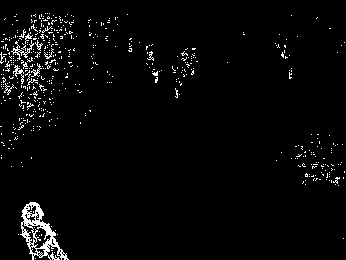person: (21, 200, 68, 260)
